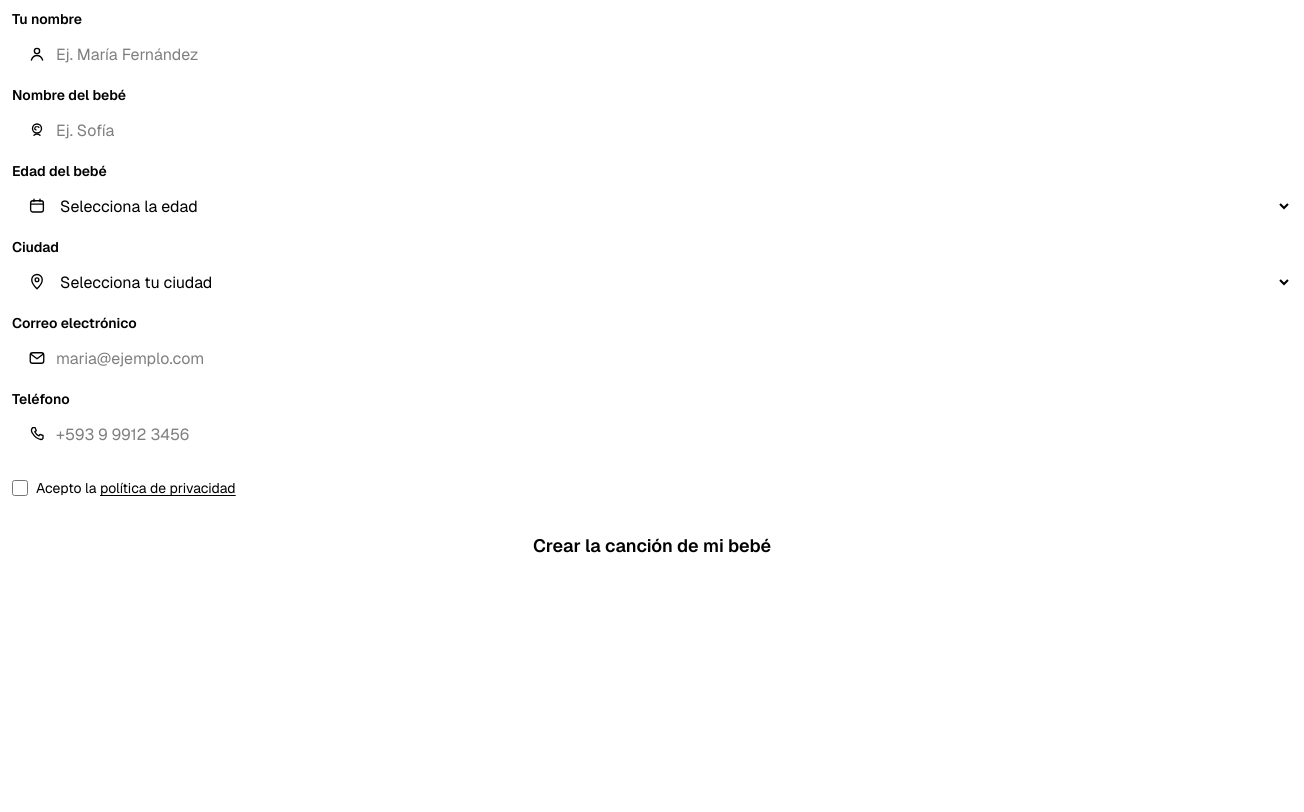
Test: RegistrationForm › resets the Turnstile widget after a failed submission and blocks retrying without a fresh token
In the field labelled "Tu nombre": {"x": 652, "y": 54} [12,30,1292,78], type "Jane Doe"
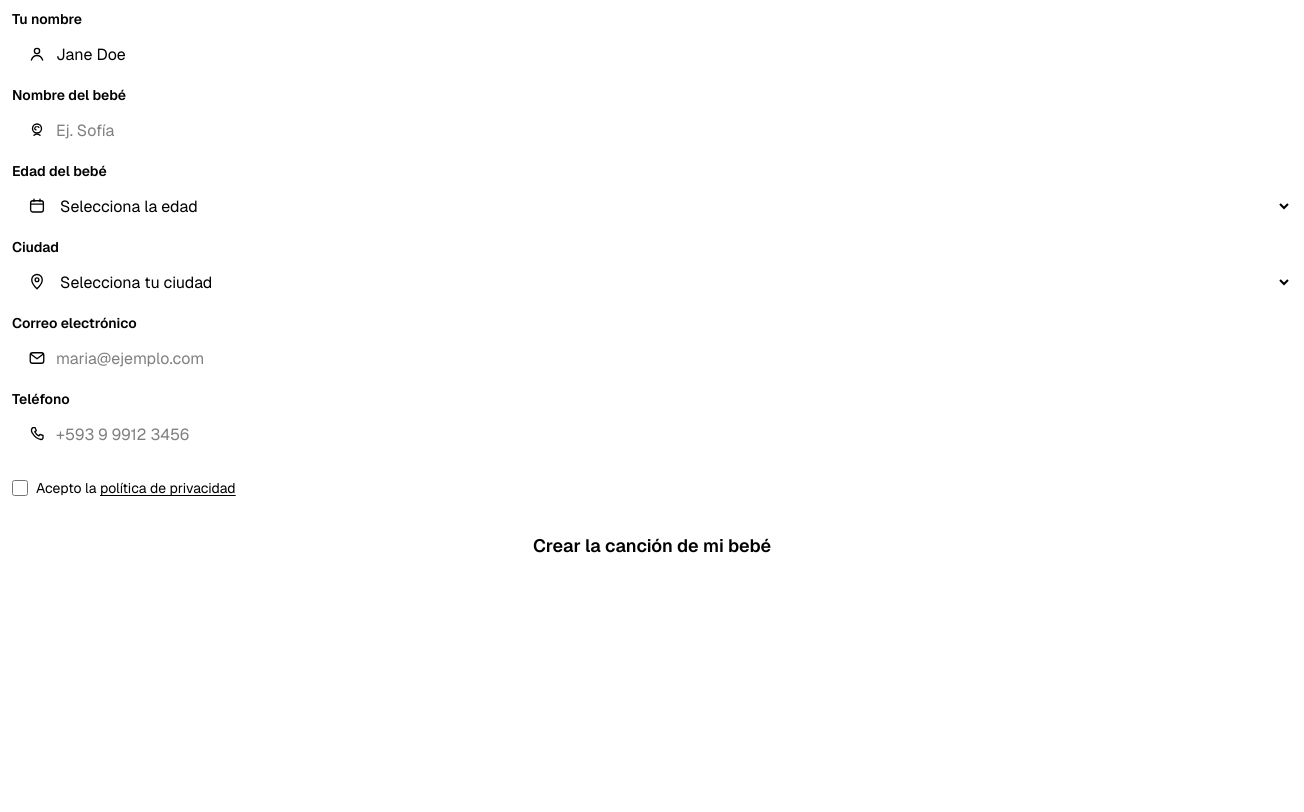
In the field labelled "Nombre del bebé": {"x": 652, "y": 130} [12,106,1292,154], type "Baby Doe"
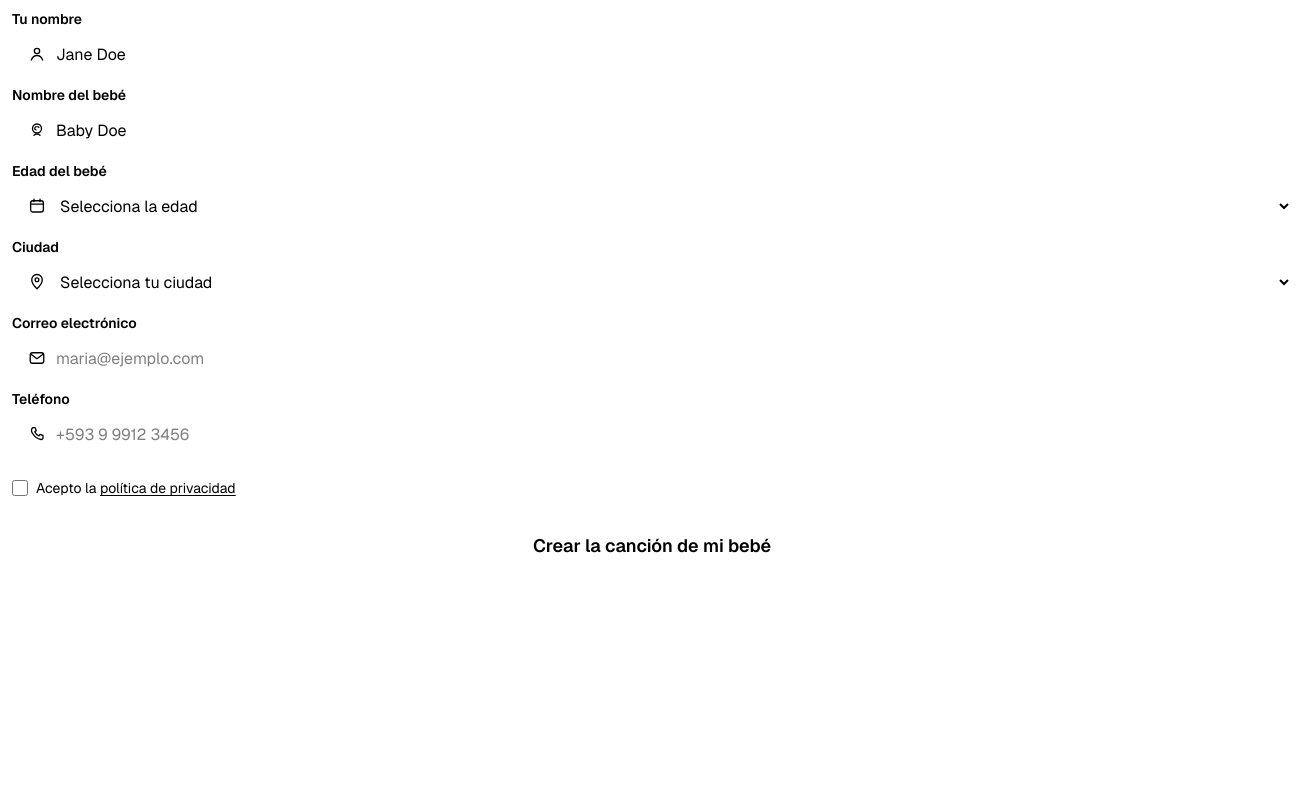
In the field labelled "Correo electrónico": {"x": 652, "y": 358} [12,334,1292,382], type "jane@example.com"
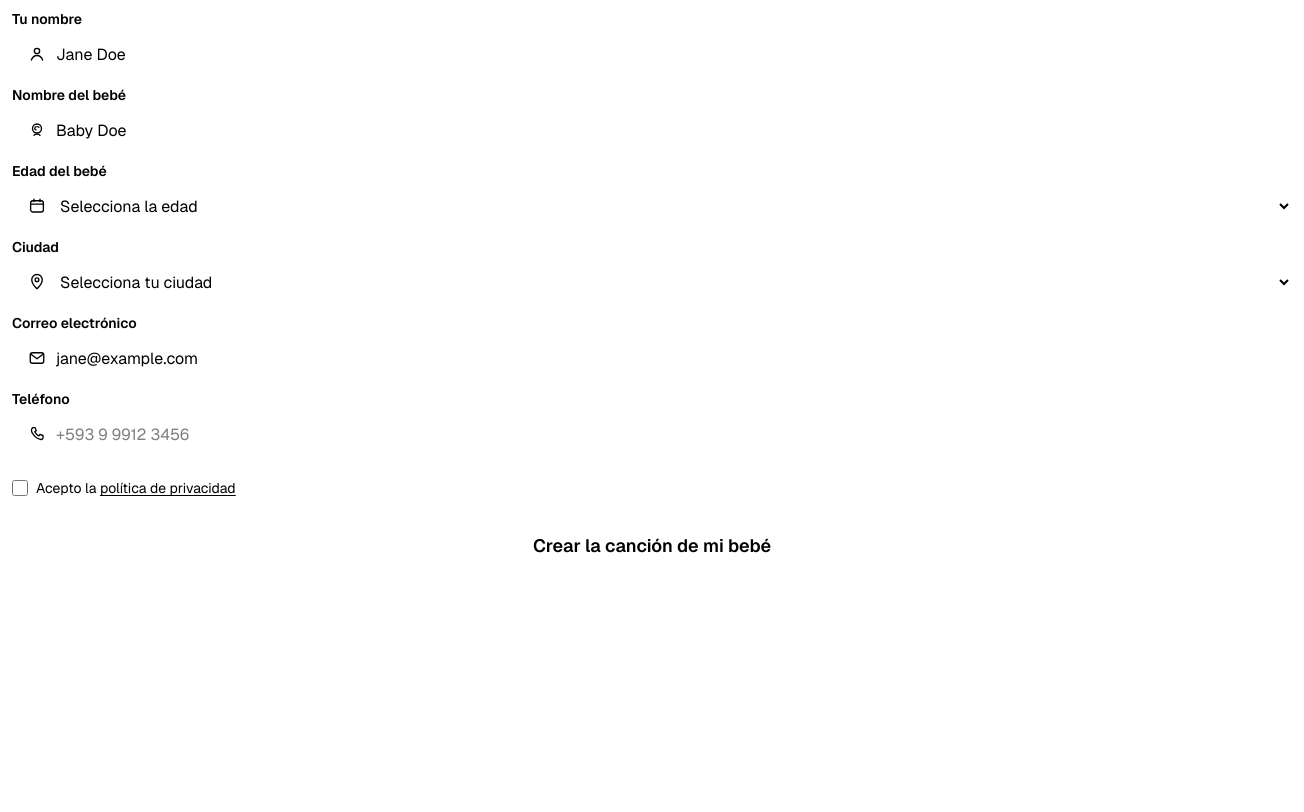
Click the checkbox labelled "Acepto la política de privacidad": {"x": 20, "y": 488} [12,480,28,496]
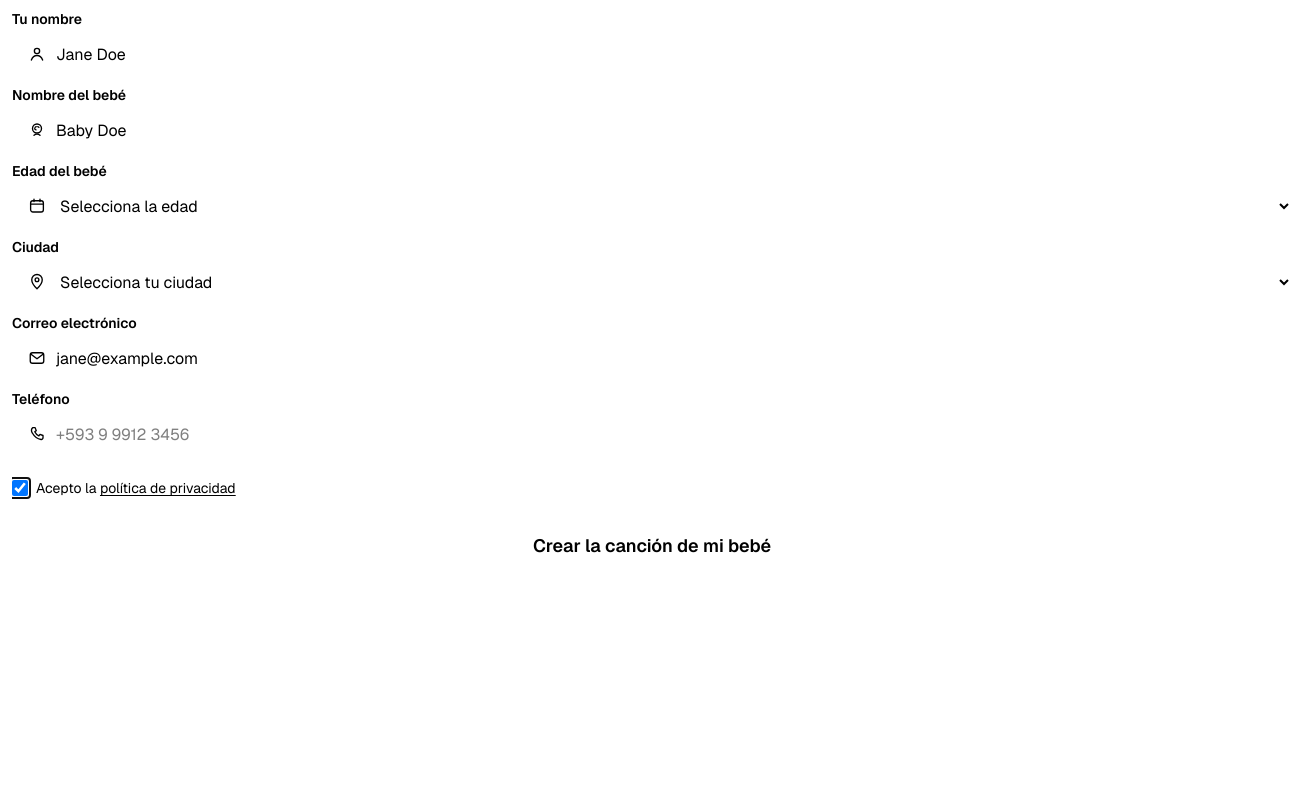
Click the button "Crear la canción de mi bebé": {"x": 652, "y": 546} [12,518,1292,574]
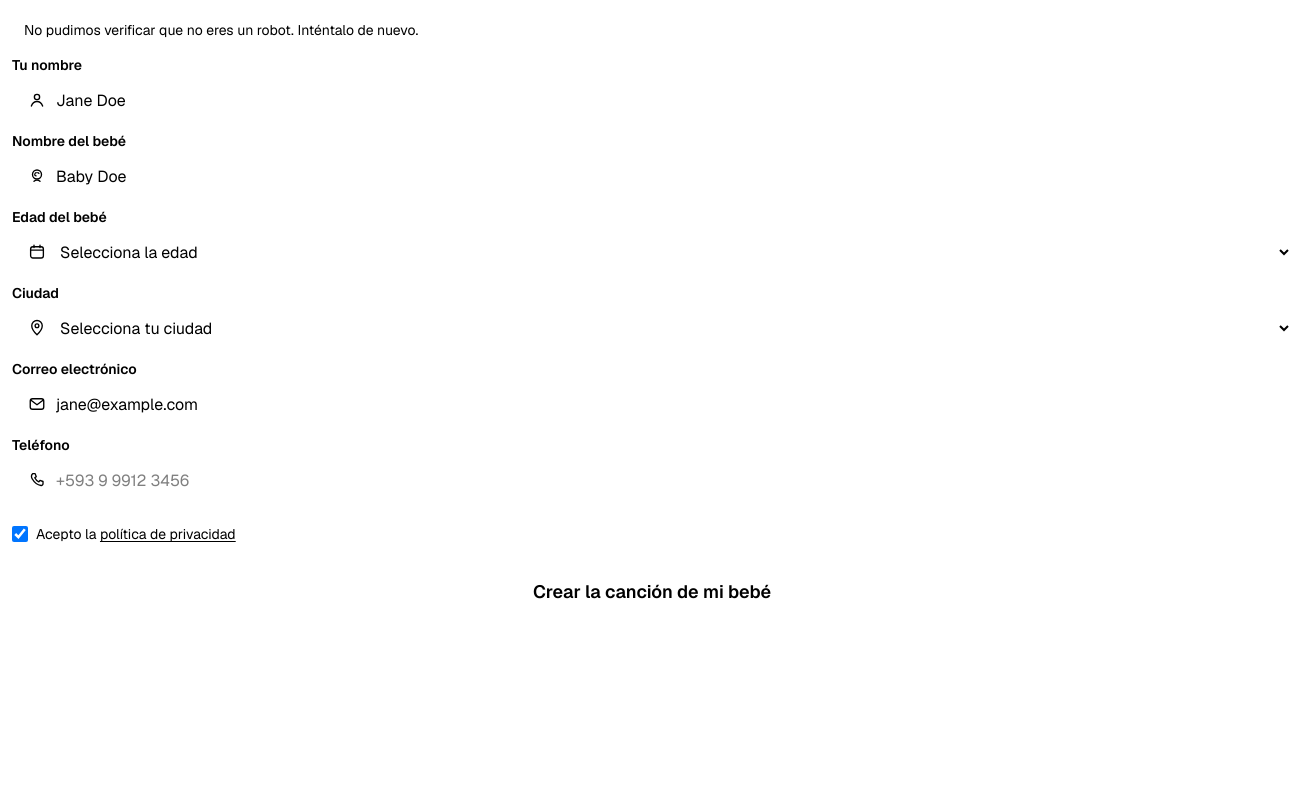
Expected: the text "No pudimos verificar que no eres un robot. Inténtalo de nuevo." is shown, [24,21,418,39]
Click the button "Crear la canción de mi bebé": {"x": 652, "y": 592} [12,564,1292,620]
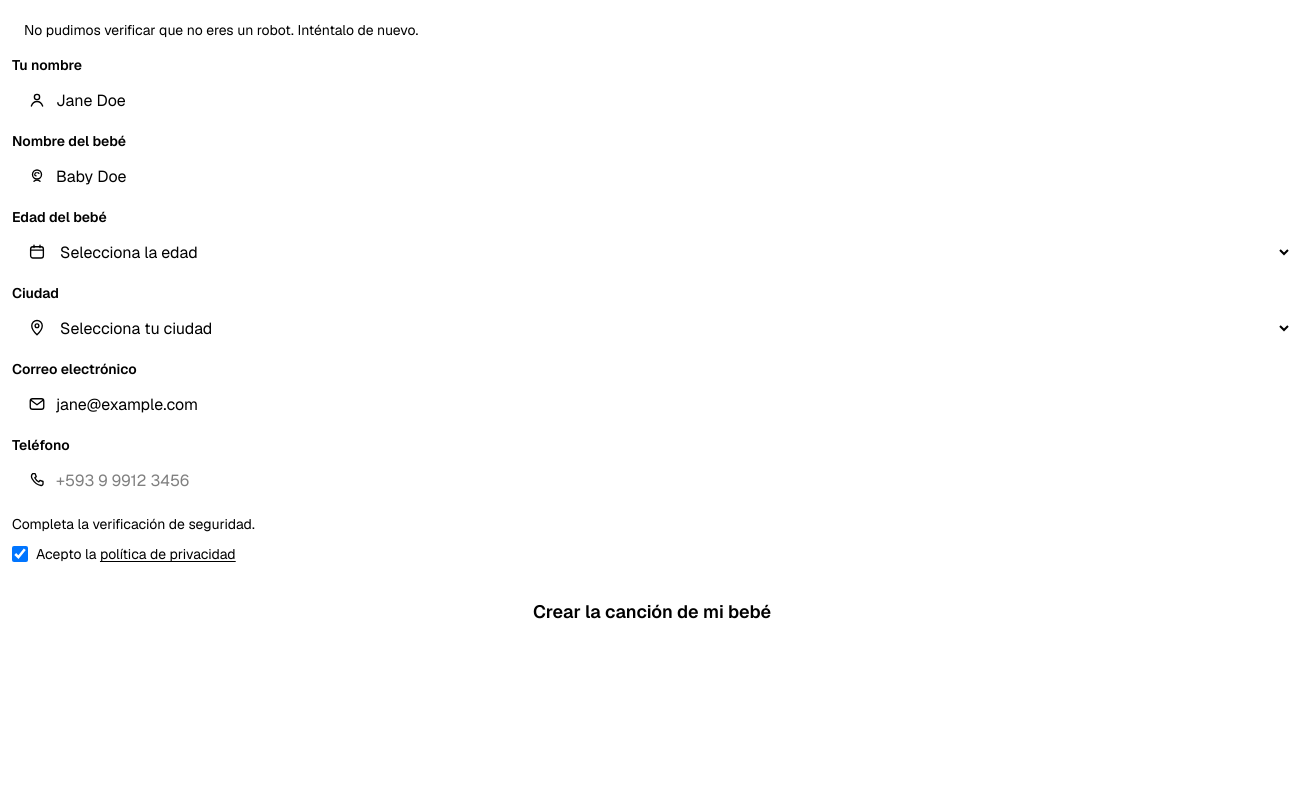
Expected: the text "Completa la verificación de seguridad." is shown, [12,515,255,533]
